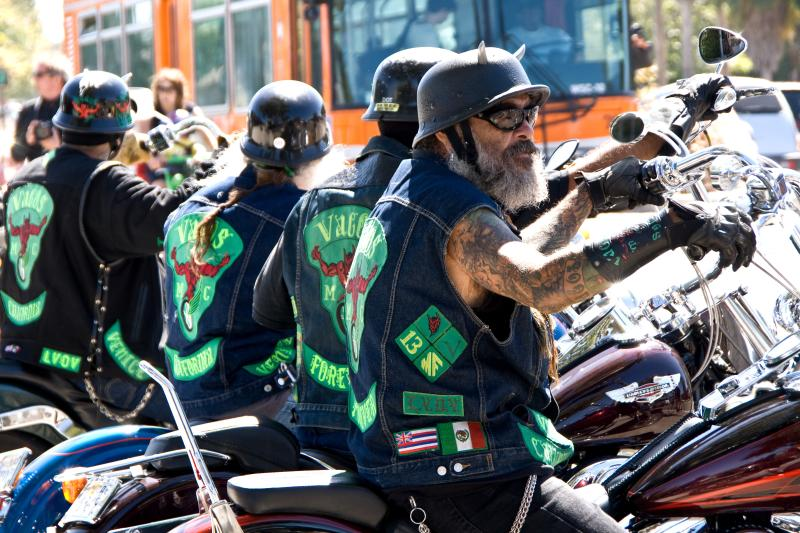helmet: (410, 41, 544, 124), (51, 71, 157, 139), (231, 79, 323, 156)
